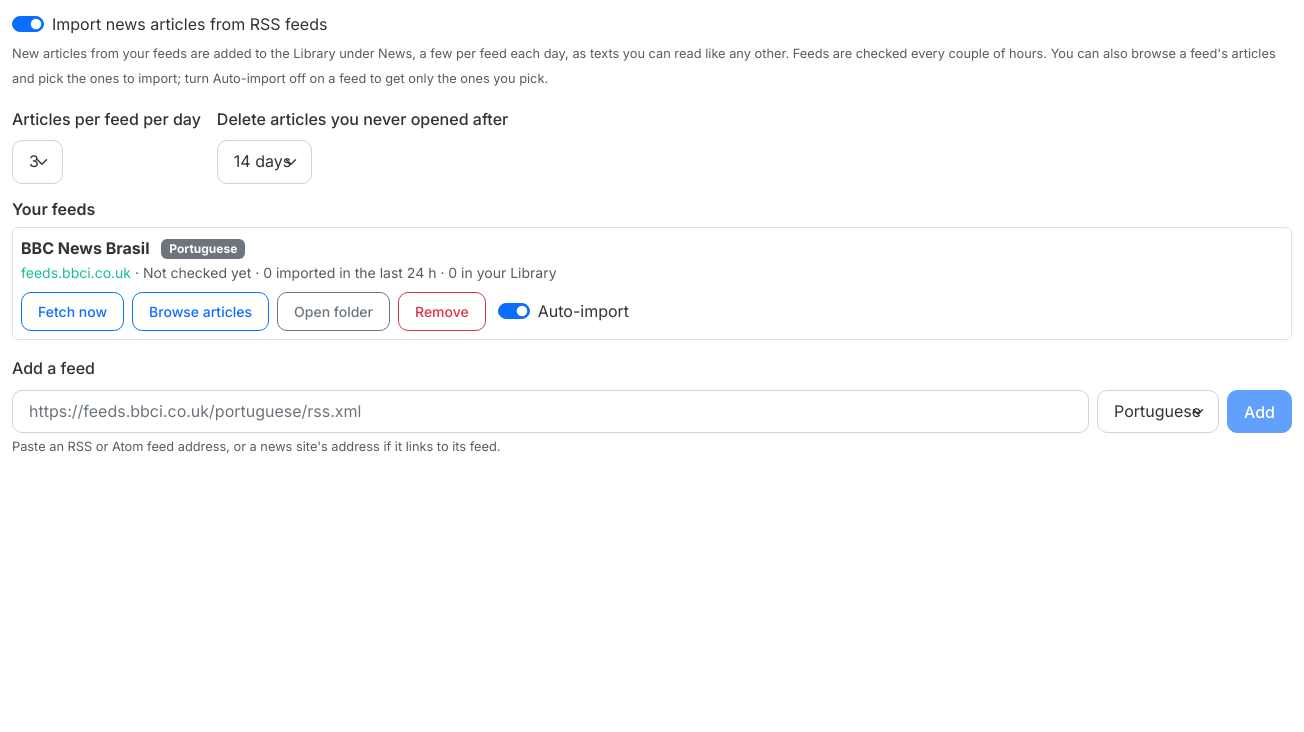
Test: NewsFeedSettings › Fetch now shows the result, and a failure as an error
What coordinates should you click on to do the following:
click the button "Fetch now"
I would click on:
 (73, 312)
Its box is [21, 292, 124, 331].
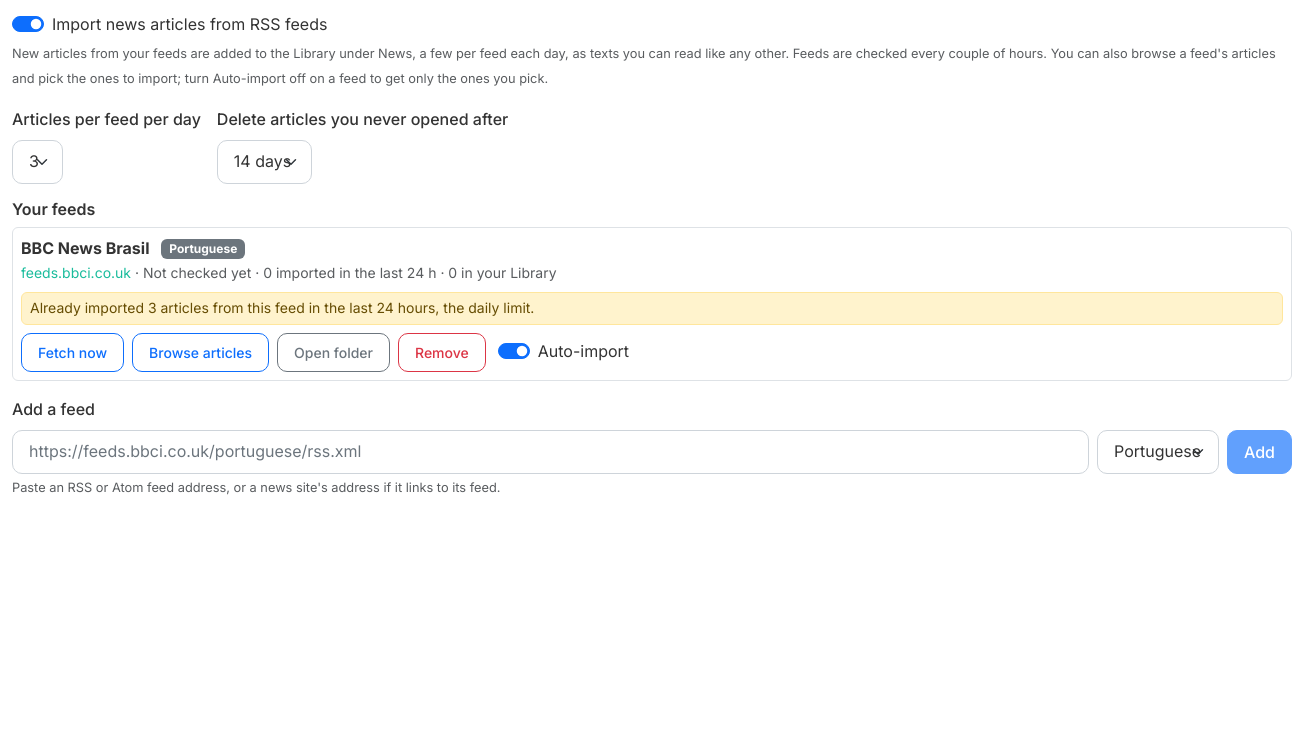
What coordinates should you click on to do the following:
click the button "Fetch now"
I would click on:
 (73, 352)
Its box is [21, 332, 124, 372].
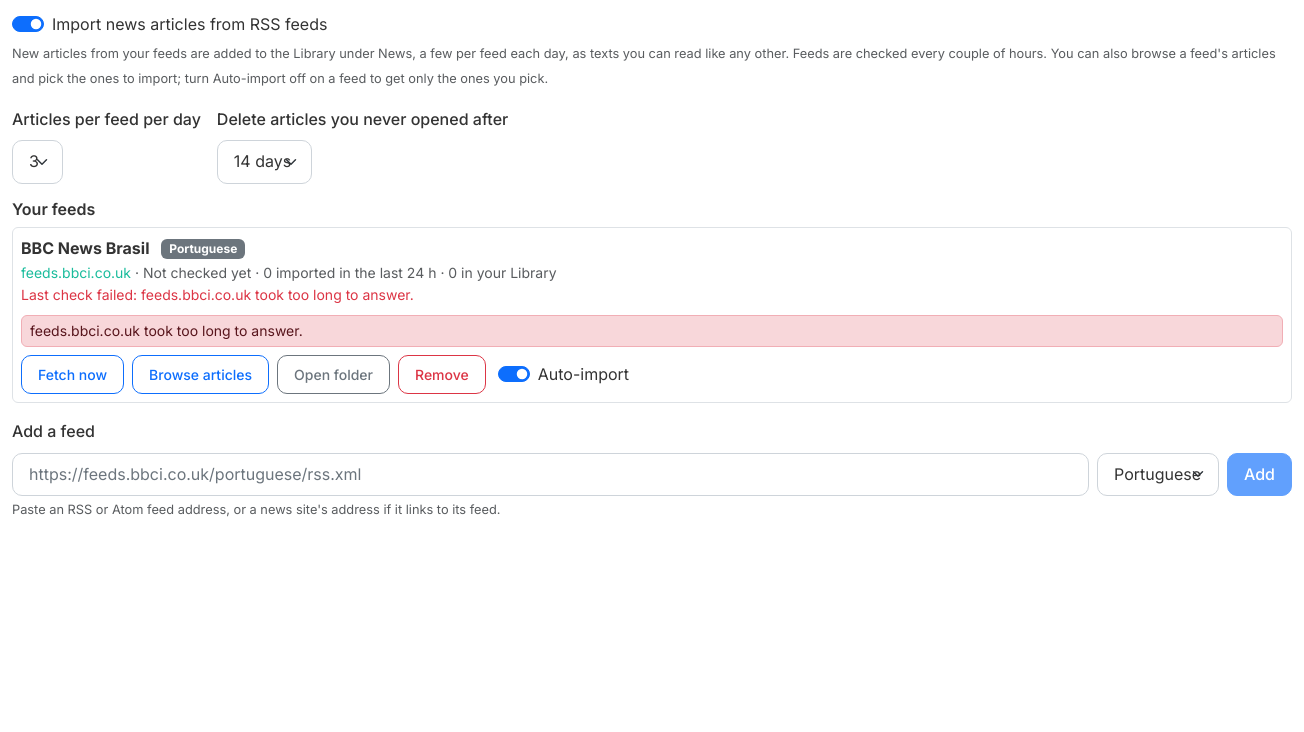
Now the text "Last check failed: feeds.bbci.co.uk took too long to answer." is shown, box [21, 286, 414, 303]
